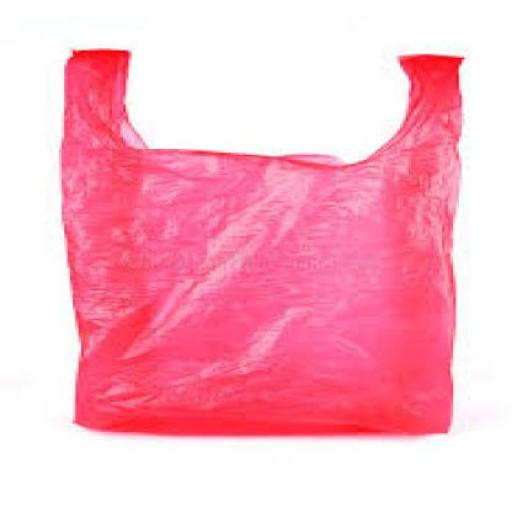plastic: (58, 48, 456, 434)
